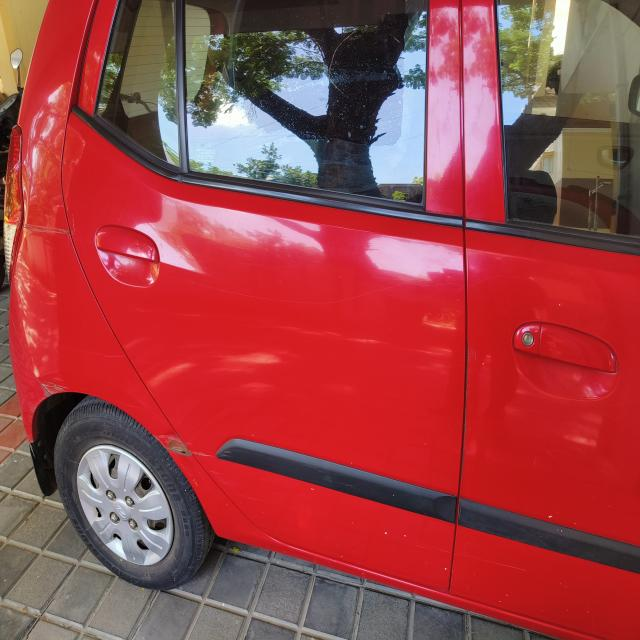scratch: (163, 269, 464, 308), (150, 423, 219, 477), (38, 372, 78, 401)
